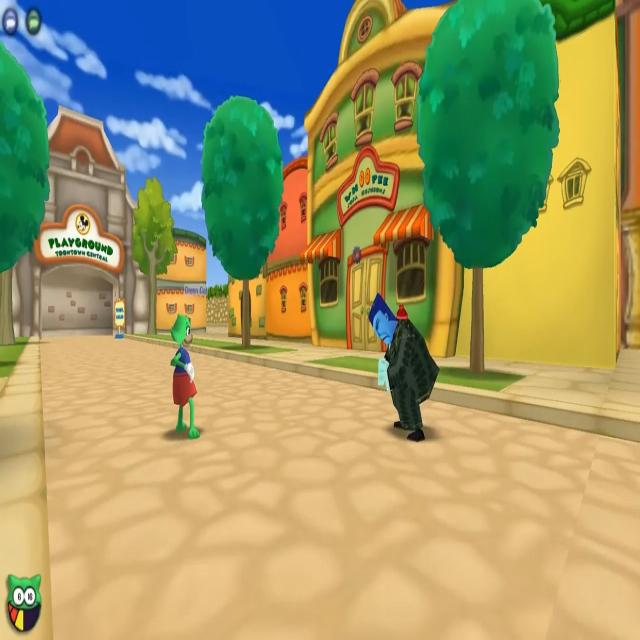shortchange: (363, 282, 441, 443)
